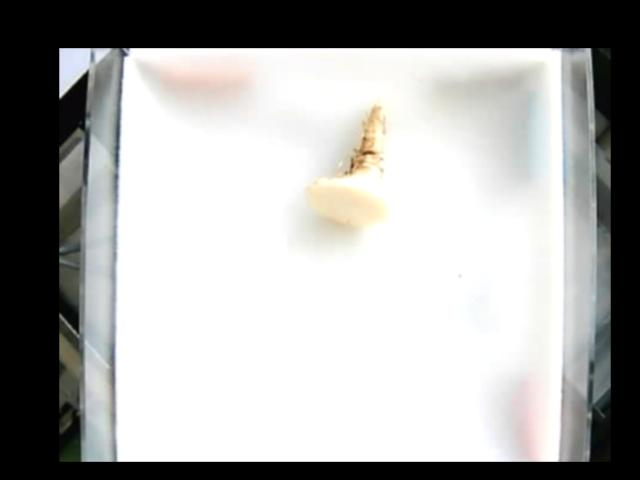Mooli: (304, 100, 392, 230)
